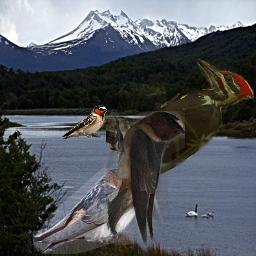Swallow: (104, 111, 185, 245), (33, 168, 140, 254), (61, 105, 107, 139)
Woodpecker: (106, 59, 254, 196)
